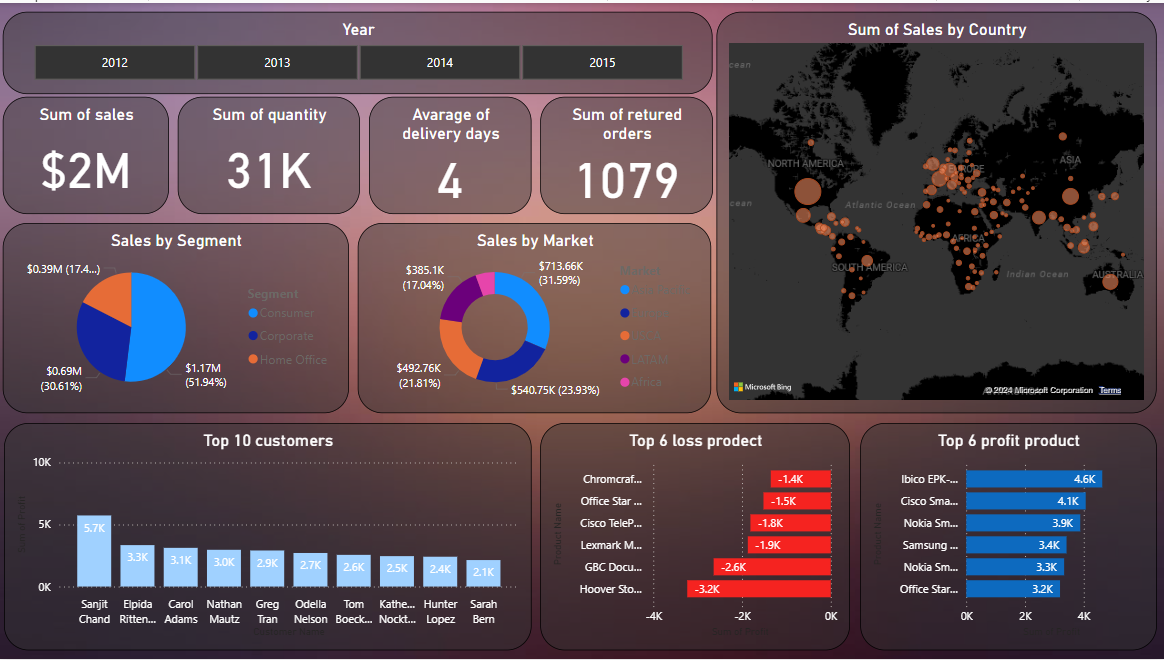

The page's visual inventory and layout, read from the dashboard file:
{"tool":"powerbi","page":{"name":"Page 1","canvas":[1280,720],"ordinal":0},"visuals":[{"type":"card","title":"Sum of sales","fields":{"Values":["Orders.Sales"]},"box":[4.1,102.9,182.5,129],"z":0},{"type":"card","title":"Sum of quantity","fields":{"Values":["Orders.Quantity"]},"box":[196.2,102.9,200.3,129],"z":1000},{"type":"card","title":"Avarage of delivery days","fields":{"Values":["Orders.Delivery days"]},"box":[406.2,102.9,178.4,129],"z":2000},{"type":"slicer","title":"Year","fields":{"Values":["Orders.year"]},"box":[4.1,9.6,779.4,90.6],"z":3000},{"type":"card","title":"Sum of retured orders","fields":{"Values":["Returns.Return_order"]},"box":[594.2,102.9,189.4,129],"z":4000},{"type":"map","fields":{"Category":["Orders.Country"],"Size":["Orders.Sales"]},"box":[787.7,9.6,483,440.5],"z":5000},{"type":"barChart","title":"Top 6 profit product","fields":{"Category":["Orders.Product Name"],"Y":["Orders.Profit"]},"box":[945.5,461.1,325.2,249.7],"z":5001},{"type":"barChart","title":"Top 6 loss prodect","fields":{"Category":["Orders.Product Name"],"Y":["Orders.Profit"]},"box":[594.2,461.1,340.3,249.7],"z":5002},{"type":"pieChart","title":"Sales by Segment","fields":{"Category":["Orders.Segment"],"Y":["Orders.Sales"]},"box":[4.1,241.5,380.1,208.6],"z":5003},{"type":"donutChart","title":"Sales by Market","fields":{"Category":["Orders.Market"],"Y":["Orders.Sales"],"Series":["Orders.Market"]},"box":[393.8,241.5,388.3,208.6],"z":5004},{"type":"columnChart","title":"Top 10 customers","fields":{"Category":["Orders.Customer Name"],"Y":["Orders.Profit"]},"box":[5.5,461.1,579.1,249.7],"z":5005}]}

Visuals, with their boxes in screenshot pixels (x1, y1, x2, y2), scaled from the page's 1280x720 canvas onto the 1164x660 screenshot:
"Sum of sales" card: [left=4, top=94, right=170, bottom=213]
"Sum of quantity" card: [left=178, top=94, right=361, bottom=213]
"Avarage of delivery days" card: [left=369, top=94, right=532, bottom=213]
"Year" slicer: [left=4, top=9, right=712, bottom=92]
"Sum of retured orders" card: [left=540, top=94, right=713, bottom=213]
map - Orders.Country x Orders.Sales: [left=716, top=9, right=1156, bottom=413]
"Top 6 profit product" barChart: [left=860, top=423, right=1156, bottom=652]
"Top 6 loss prodect" barChart: [left=540, top=423, right=850, bottom=652]
"Sales by Segment" pieChart: [left=4, top=221, right=349, bottom=413]
"Sales by Market" donutChart: [left=358, top=221, right=711, bottom=413]
"Top 10 customers" columnChart: [left=5, top=423, right=532, bottom=652]
